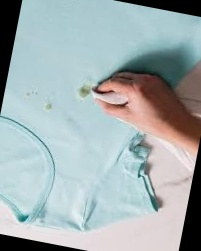oil: (73, 80, 92, 102), (42, 98, 56, 113), (23, 87, 40, 99)
